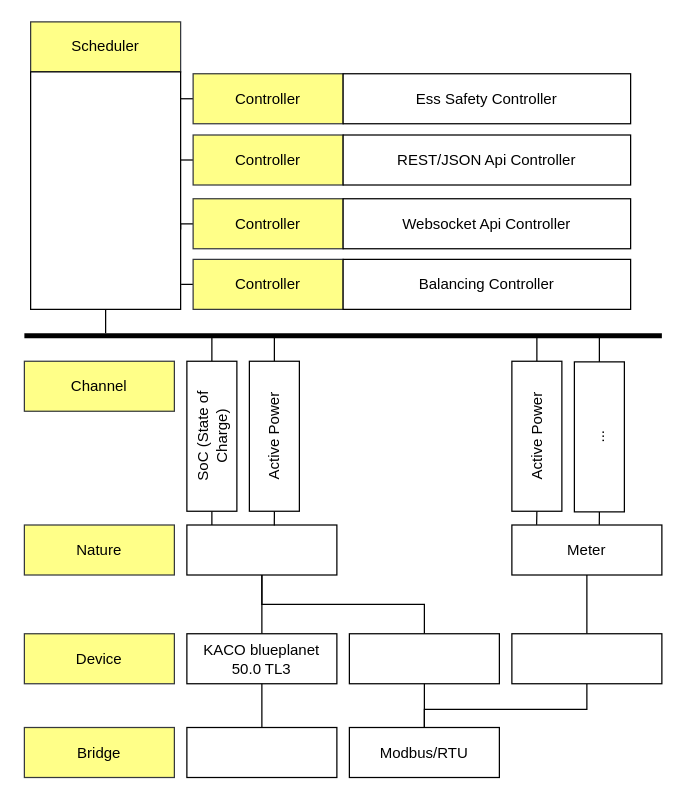
Some shapes in this 685 by 800 pixel diagram are drawn without their labels. Here are the shapes that lost their labels. From the top down, the centre of each, then its label:
At pixel 105 190: "Fixed Order Scheduler".
At pixel 261 549: "Ess (Energy Storage System)".
At pixel 423 658: "FENECON Pro 9-12".
At pixel 586 658: "SOCOMEC Diris A14".
At pixel 261 752: "Modbus/TCP".
